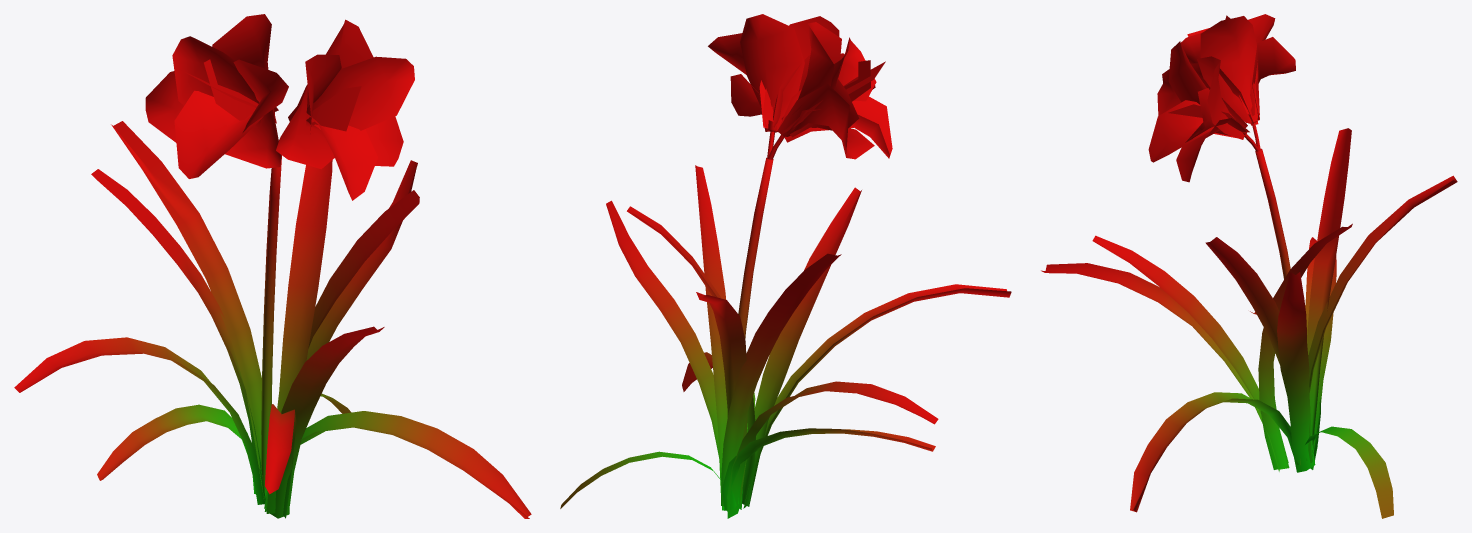
File: Var3_LOD0.fbx
3 renders of one model, left to right at view 1: azimuth 30°, elevation 25°; view 2: azimuth 150°, elevation 25°; view 3: azimuth 270°, elevation 25°, orthographic. The views are drawn at different scales.
Visible parts, largest first — view 1: _873b_Var3_LOD0; view 2: _873b_Var3_LOD0; view 3: _873b_Var3_LOD0.
Part boxes in pixels (x1,y1,x2,y2): _873b_Var3_LOD0: (14, 14, 531, 518); _873b_Var3_LOD0: (560, 14, 1011, 518); _873b_Var3_LOD0: (1041, 14, 1457, 518).
Size of the model in its own units: 67.29 by 85.68 by 74.4.
